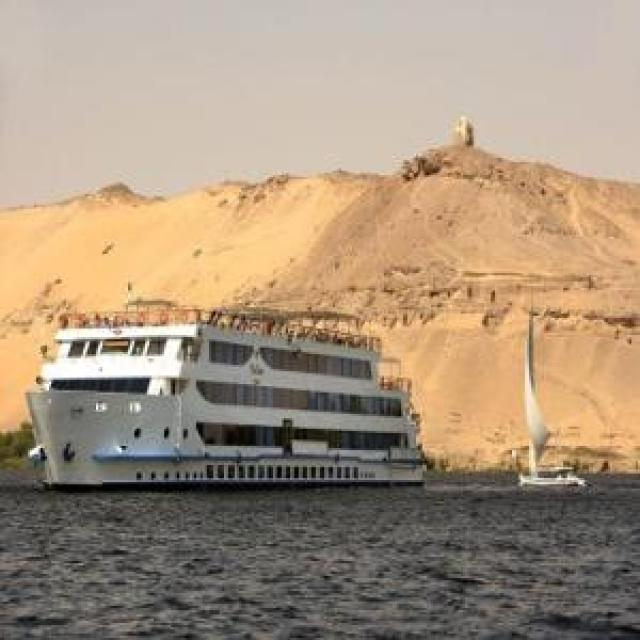passenger ship: (19, 302, 434, 486)
sailboat: (512, 296, 585, 496)
